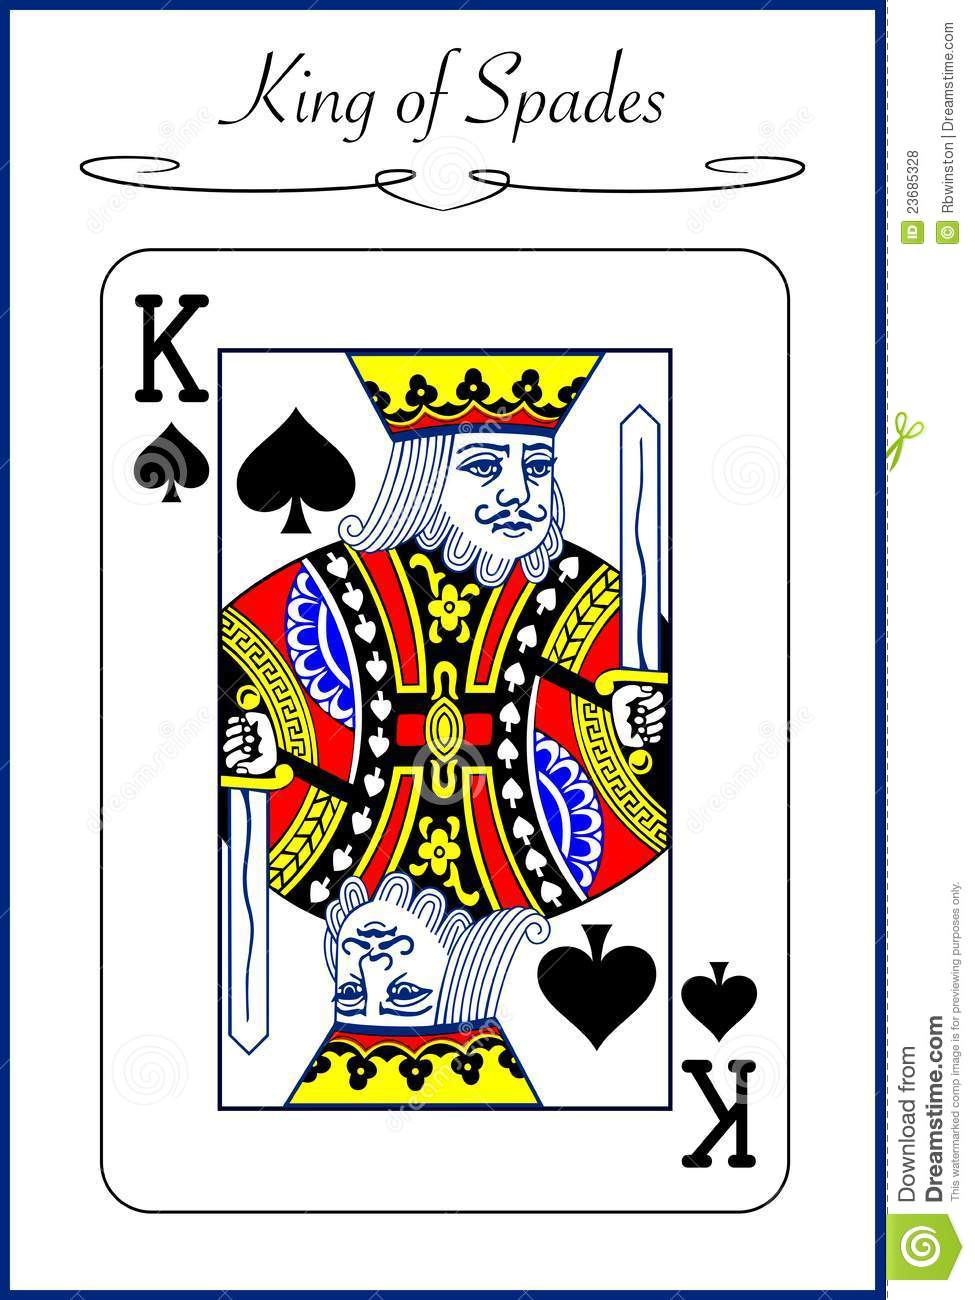king of spades: (101, 247, 791, 1206)
